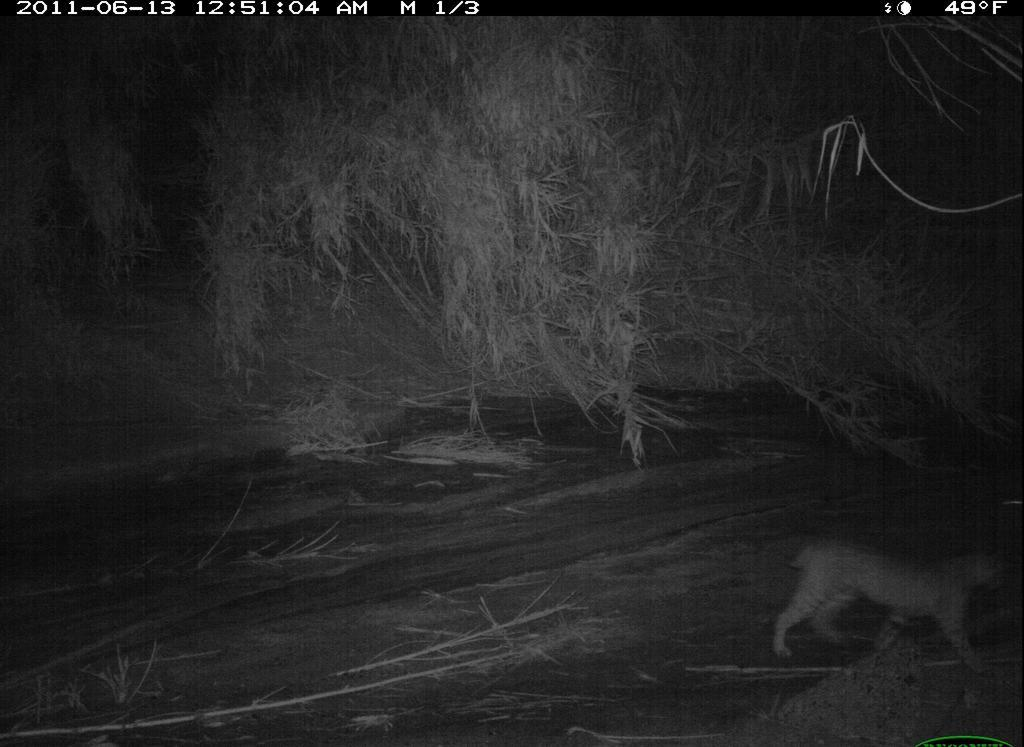bobcat: (761, 529, 1021, 712)
